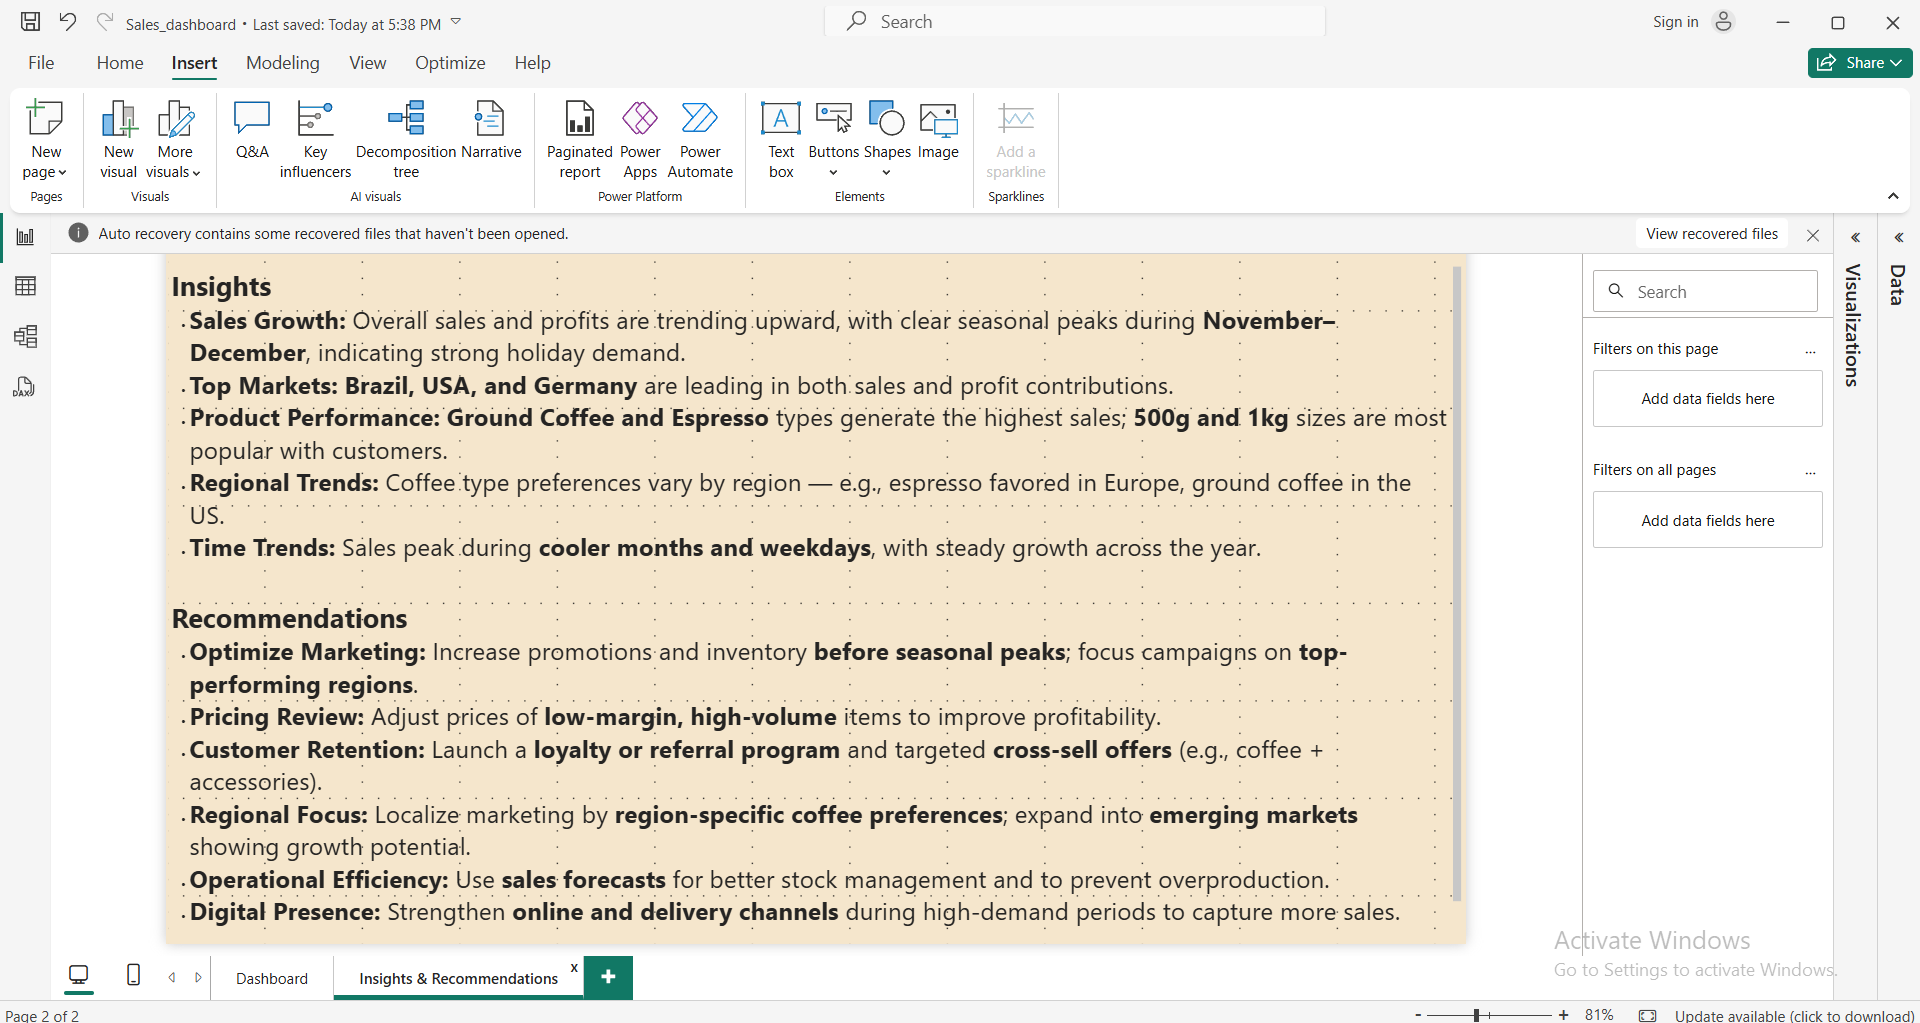

This screenshot's page, from the dashboard's own definition file:
{"tool":"powerbi","page":{"name":"Insights & Recommendations","canvas":[1280,720],"ordinal":1},"visuals":[{"type":"textbox","box":[0,48,1280,672],"z":0}]}

Visuals, with their boxes on the page's 1280x720 design canvas (x1, y1, x2, y2). These are canvas units, not pixel positions in the 1920x1023 screenshot, which may show the page scaled, cropped or inside an application window:
textbox: rect(0, 48, 1280, 720)
